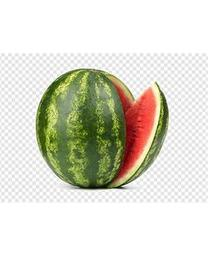watermelon: (34, 69, 171, 189)
